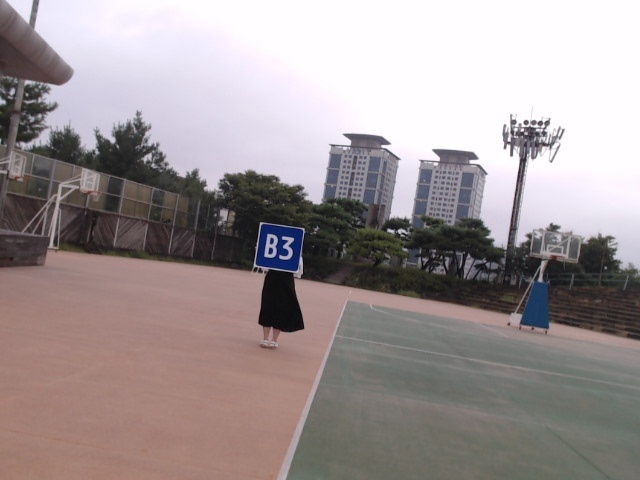delivery_b3: (255, 223, 304, 272)
